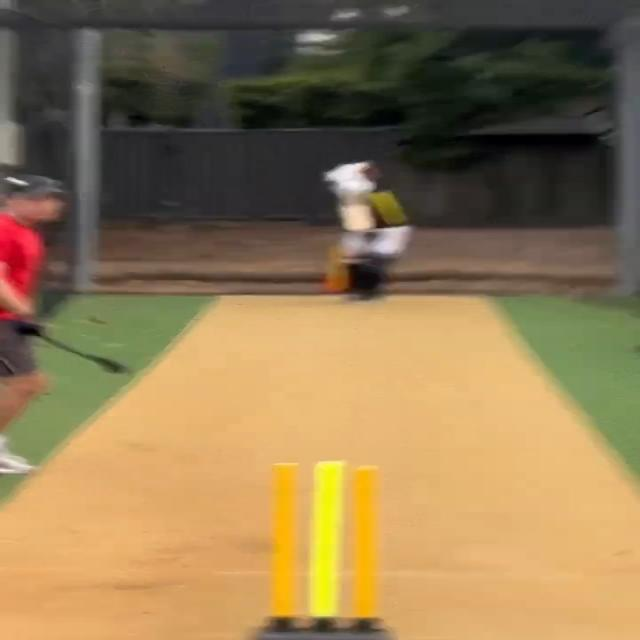stump: (259, 461, 391, 639)
